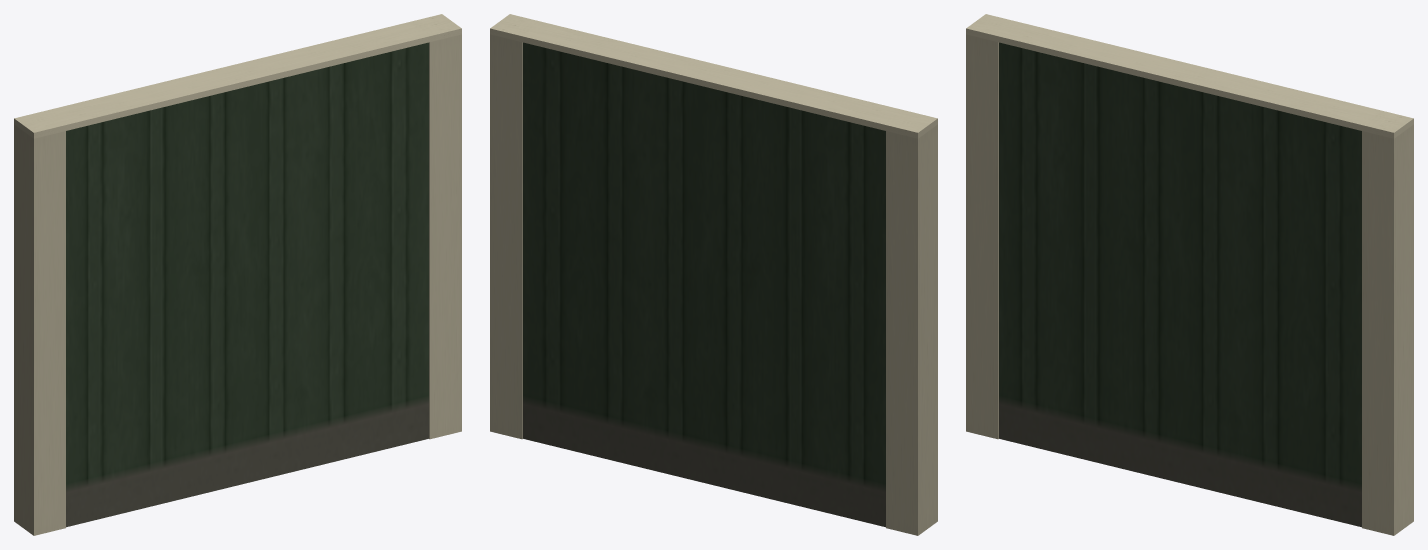
The model's file is house_04_wall_solid.glb.
3 views of the same model, side by side, from view 1: azimuth 30°, elevation 25°; view 2: azimuth 150°, elevation 25°; view 3: azimuth 330°, elevation 25° (orthographic).
Visible parts, largest first — view 1: outdoor_house_04_wall_solid; view 2: outdoor_house_04_wall_solid; view 3: outdoor_house_04_wall_solid.
Part boxes in pixels (x1,y1,x2,y2): outdoor_house_04_wall_solid: [14, 14, 461, 535]; outdoor_house_04_wall_solid: [490, 14, 937, 535]; outdoor_house_04_wall_solid: [966, 14, 1413, 535].
Size of the model in its own units: 3 by 2.7 by 0.24.
1 material, 1 textured.
